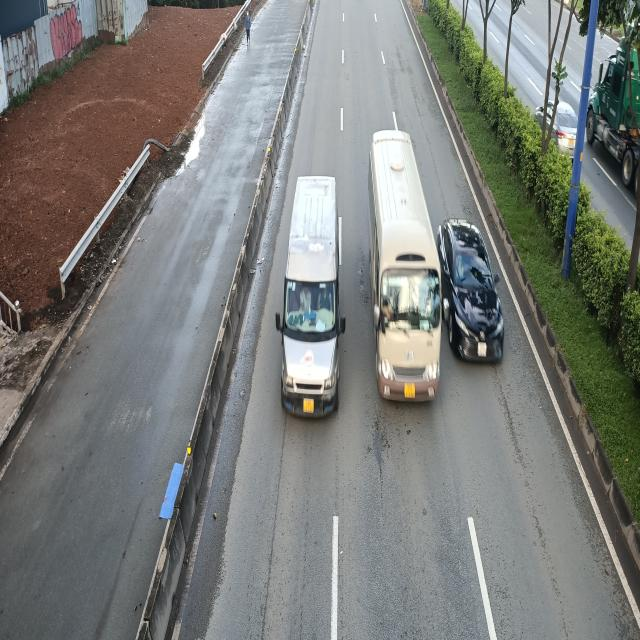car: (438, 218, 505, 366)
coach: (371, 133, 446, 409)
van: (275, 174, 345, 418)
